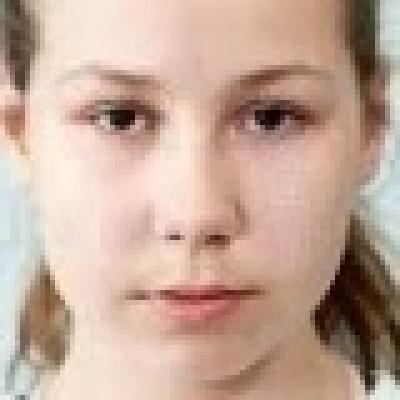netural: (31, 7, 356, 374)
